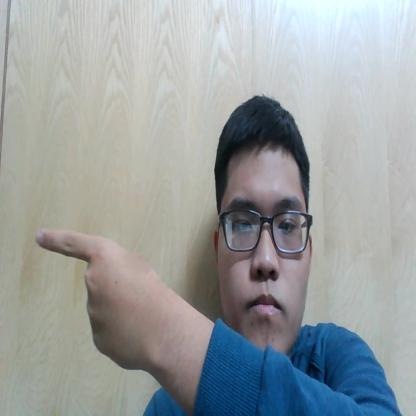right: (28, 212, 182, 392)
